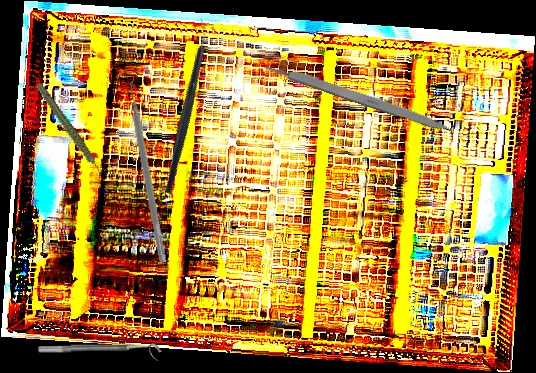Chopper: (107, 15, 262, 196)
Fixation Ring: (37, 342, 163, 364)
Handpiece: (33, 72, 105, 190)
Scalpel Handle: (263, 58, 453, 135)
Spatula Surgical: (123, 76, 176, 263)
